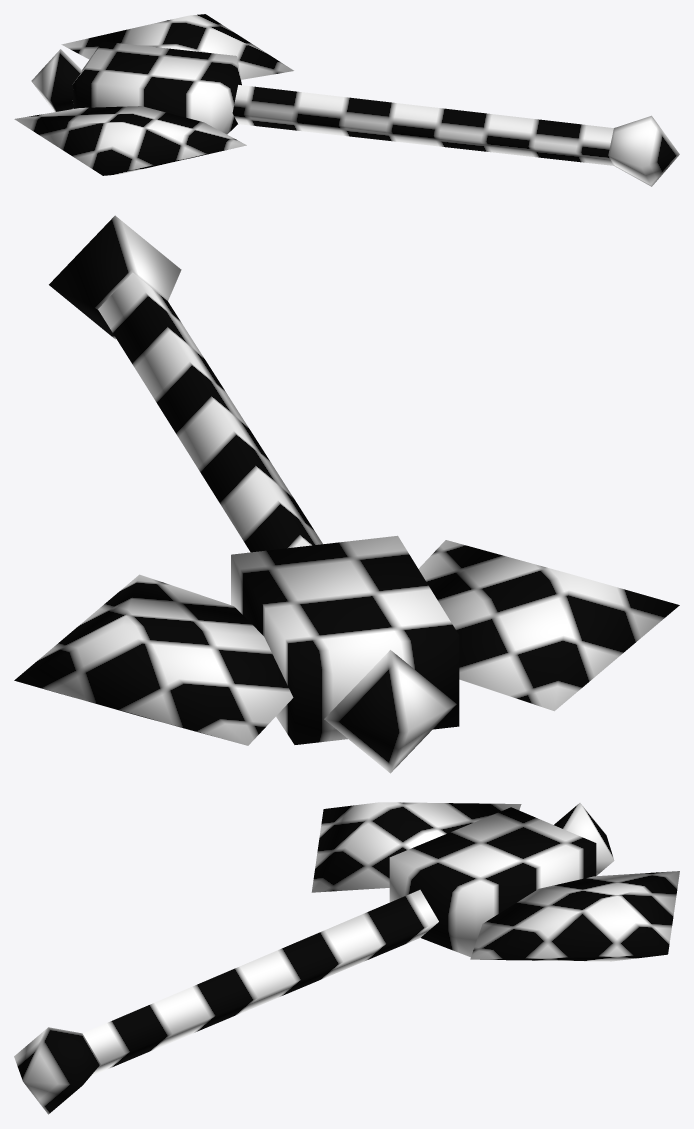
File: initweax5.dae
3 renders of one model, top to bottom at view 1: azimuth 30°, elevation 25°; view 2: azimuth 150°, elevation 25°; view 3: azimuth 270°, elevation 25°, orthographic. The views are drawn at different scales.
Parts seen in each view (by area): view 1: weapon; view 2: weapon; view 3: weapon.
Boxes of the visible parts, <box> form: weapon: <box>14,14,679,186</box>; weapon: <box>14,215,679,773</box>; weapon: <box>14,802,679,1114</box>.
Size of the model in its own units: 1.86 by 1.86 by 0.2697.
1 material, 1 textured.
